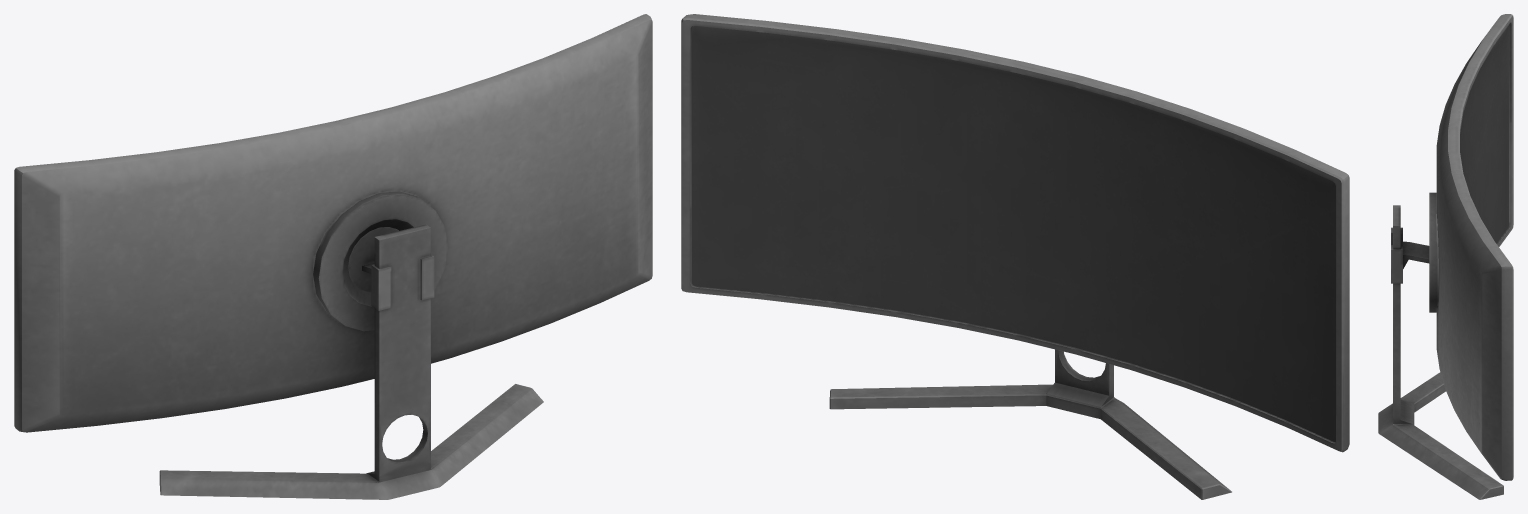
File: Tv 32 Inch.FBX
3 renders of one model, left to right at view 1: azimuth 30°, elevation 25°; view 2: azimuth 150°, elevation 25°; view 3: azimuth 270°, elevation 25°, orthographic. The views are drawn at different scales.
Visible parts, largest first — view 1: TV 32 inch; view 2: TV 32 inch (×2); view 3: TV 32 inch (×2).
Part boxes in pixels (<box>): TV 32 inch: <box>14,14,652,499</box>; TV 32 inch (×2): <box>681,14,1349,499</box>; TV 32 inch (×2): <box>1378,14,1513,499</box>.
Bounding box in the file's own units: 1.5 × 0.3365 × 0.7777.
